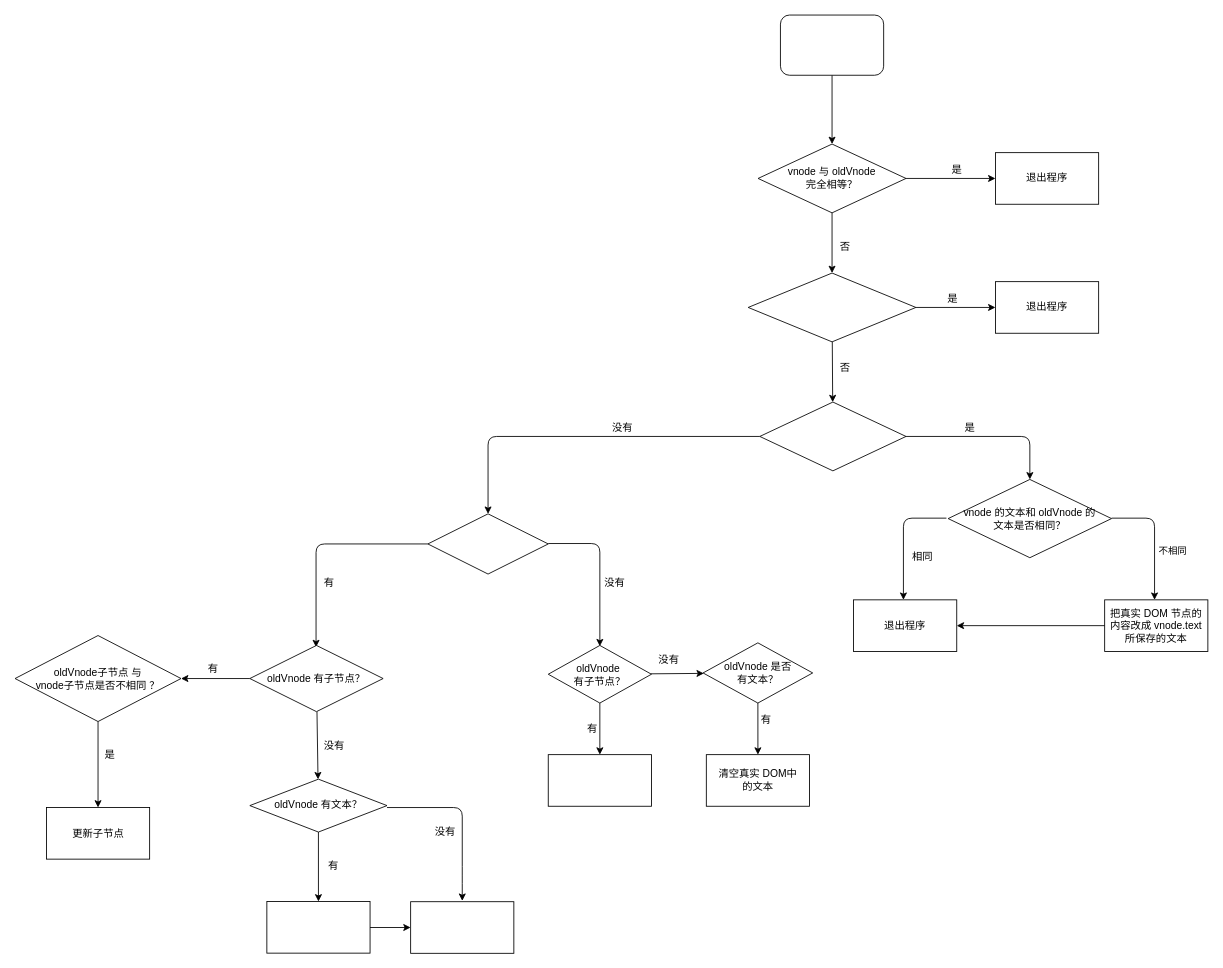
Image size: 1223x968. Some labels were removed from this diagram. The shapes that lost their labels are listed below. From the top down, each one's centre as x and y in pixels, then its label:
point (832, 44): 更新节点
point (831, 307): vnode 与 oldVnode 是静态节点？
point (832, 436): vnode 有 text 属性？
point (487, 543): vnode 有子节点？
point (599, 780): 清空真实 DOM 中的子节点
point (318, 927): 清空 DOM 中的文本
point (462, 927): 把 vnode 的子节点添加到DOM
